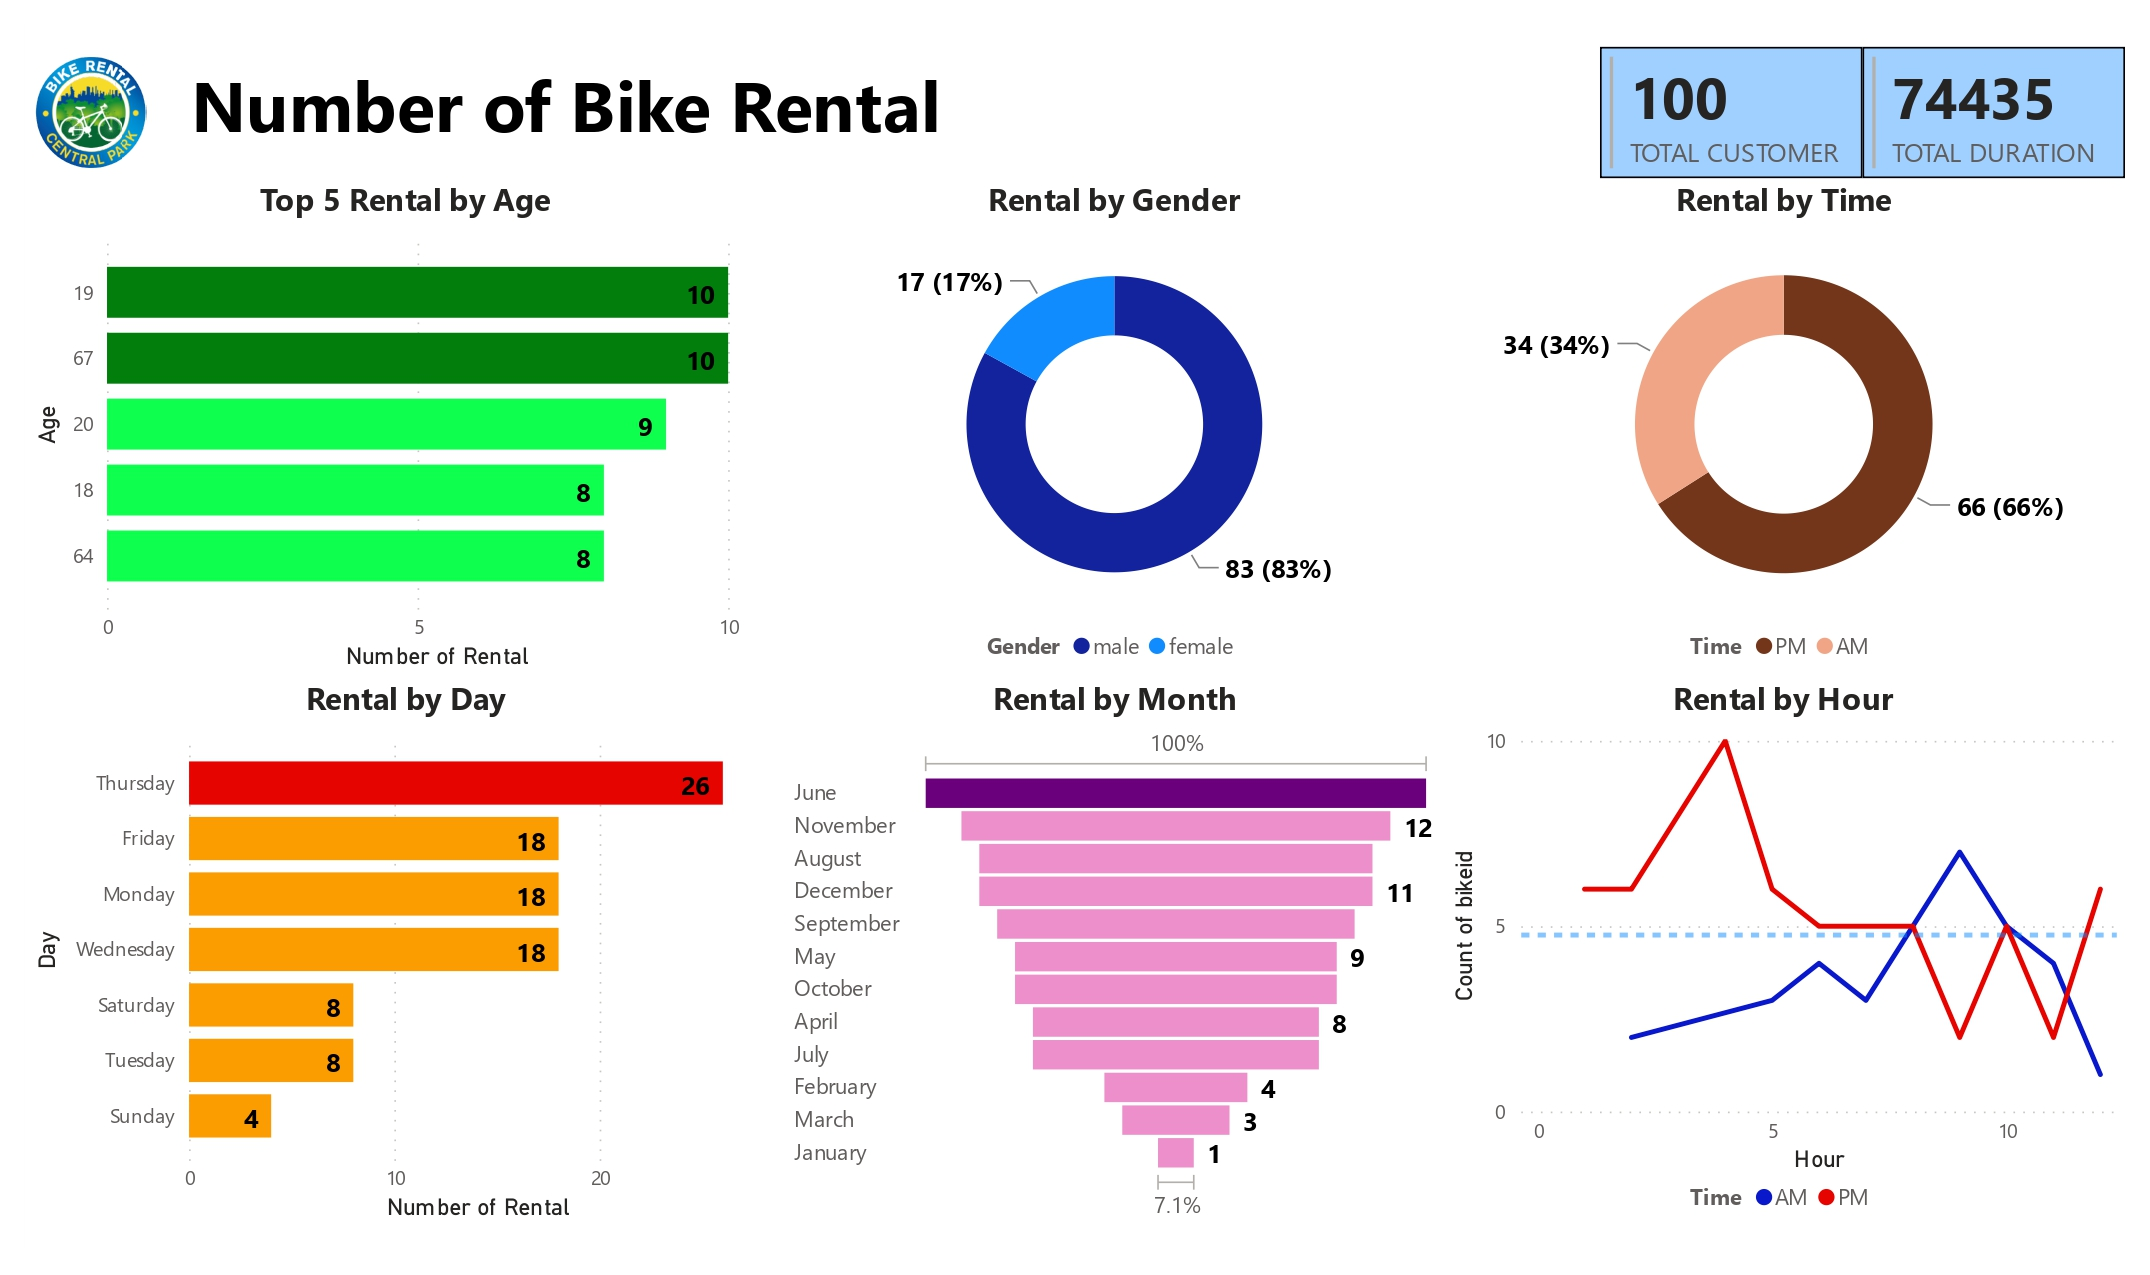

The dashboard page shown, as its layout file describes it:
{"tool":"powerbi","page":{"name":"Number of Rental","canvas":[1280,720],"ordinal":0},"visuals":[{"type":"donutChart","title":"Rental by Gender","fields":{"Category":["citibike_trips.gender"],"Y":["CountNonNull(citibike_trips.bikeid)"]},"box":[464,80,400,304],"z":0},{"type":"clusteredBarChart","title":"Top 5 Rental by Age","fields":{"Y":["CountNonNull(citibike_trips.bikeid)"],"Category":["citibike_trips.Customer_Age"]},"box":[0,80,464,304],"z":1000},{"type":"image","box":[0,0,80,80],"z":2000},{"type":"textbox","box":[96,0,480,80],"z":3000},{"type":"clusteredBarChart","title":"Rental by Day","fields":{"Y":["CountNonNull(citibike_trips.bikeid)"],"Category":["citibike_trips.Day Name_starttime"]},"box":[0,384,464,336],"z":4000},{"type":"donutChart","title":"Rental by Time","fields":{"Y":["CountNonNull(citibike_trips.bikeid)"],"Series":["citibike_trips.AM PM_starttime"]},"box":[864,80,416,304],"z":5000},{"type":"lineChart","title":"Rental by Hour","fields":{"Category":["citibike_trips.Hour_starttime"],"Y":["CountNonNull(citibike_trips.bikeid)"],"Series":["citibike_trips.AM PM_starttime"]},"box":[864,384,416,336],"z":6000},{"type":"funnel","title":"Rental by Month","fields":{"Y":["CountNonNull(citibike_trips.bikeid)"],"Category":["citibike_trips.Month Name_stoptime"]},"box":[464,384,400,336],"z":7000},{"type":"multiRowCard","fields":{"Values":["Sum(citibike_trips.tripduration)"]},"box":[1120,0,160,80],"z":8000},{"type":"multiRowCard","fields":{"Values":["CountNonNull(citibike_trips.bikeid)"]},"box":[960,0,160,80],"z":9000}]}

Visuals, with their boxes on the page's 1280x720 design canvas (x1, y1, x2, y2). These are canvas units, not pixel positions in the 2150x1275 screenshot, which may show the page scaled, cropped or inside an application window:
"Rental by Gender" donutChart: select_region(464, 80, 864, 384)
"Top 5 Rental by Age" clusteredBarChart: select_region(0, 80, 464, 384)
image: select_region(0, 0, 80, 80)
textbox: select_region(96, 0, 576, 80)
"Rental by Day" clusteredBarChart: select_region(0, 384, 464, 720)
"Rental by Time" donutChart: select_region(864, 80, 1280, 384)
"Rental by Hour" lineChart: select_region(864, 384, 1280, 720)
"Rental by Month" funnel: select_region(464, 384, 864, 720)
multiRowCard - Sum(citibike_trips.tripduration): select_region(1120, 0, 1280, 80)
multiRowCard - CountNonNull(citibike_trips.bikeid): select_region(960, 0, 1120, 80)
